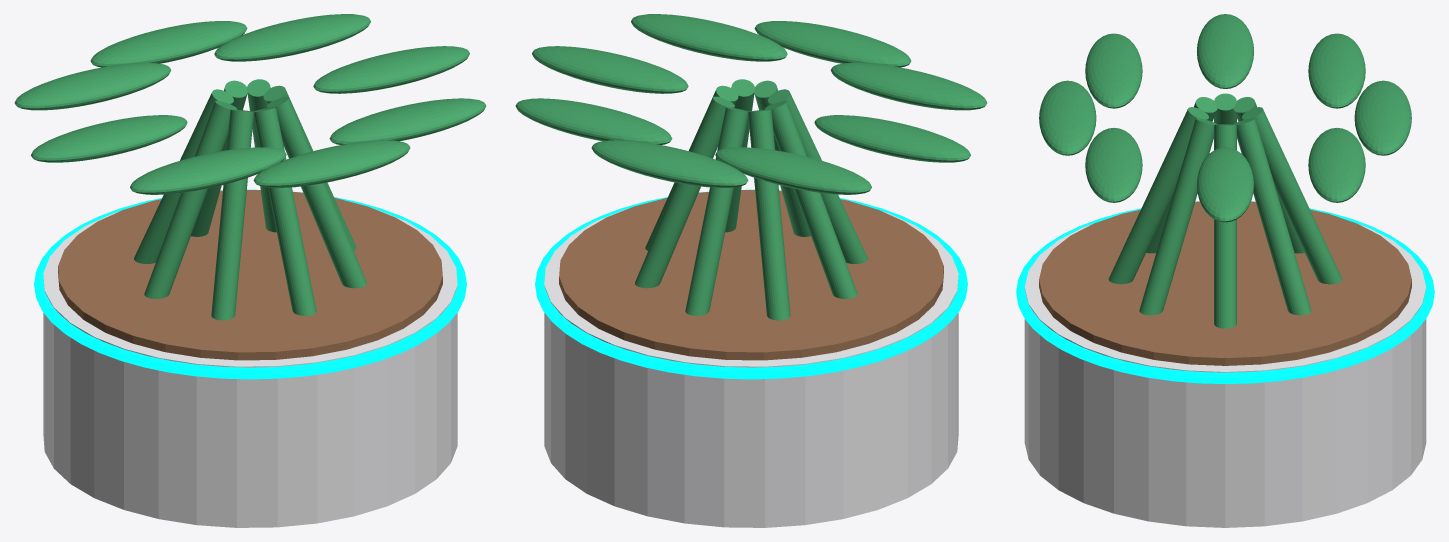
File: planter.glb
The picture shows the model from 3 angles, left to right: view 1: azimuth 30°, elevation 25°; view 2: azimuth 150°, elevation 25°; view 3: azimuth 270°, elevation 25°; orthographic projection. The views are drawn at different scales.
Visible parts, largest first — view 1: Prop_Planter; view 2: Prop_Planter; view 3: Prop_Planter.
Part boxes in pixels (x1,y1,x2,y2): Prop_Planter: (14,14,486,527); Prop_Planter: (515,14,987,527); Prop_Planter: (1016,14,1434,527).
Size of the model in its own units: 1.7 by 1.29 by 1.46.
